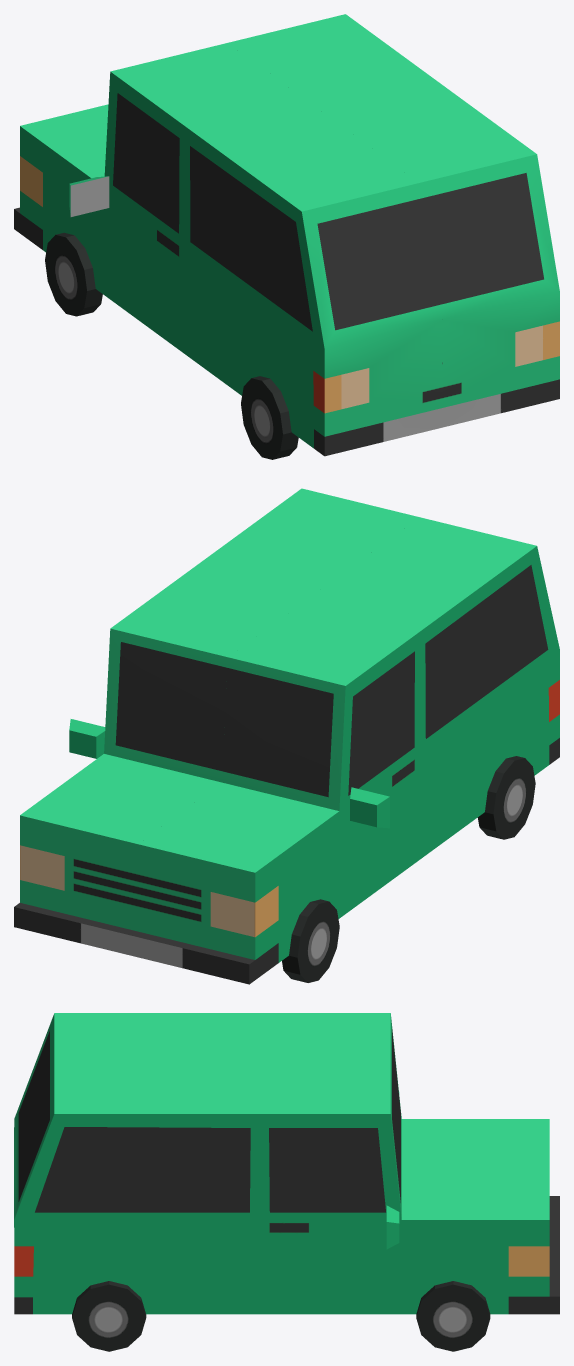
Rendered from car_mesh.fbx.
3 renders of one model, top to bottom at view 1: azimuth 30°, elevation 25°; view 2: azimuth 150°, elevation 25°; view 3: azimuth 270°, elevation 25°, orthographic. The views are drawn at different scales.
Parts seen in each view (by area): view 1: car_mesh; view 2: car_mesh; view 3: car_mesh.
Boxes of the visible parts, <box> form: car_mesh: <box>14,14,559,459</box>; car_mesh: <box>14,488,559,984</box>; car_mesh: <box>14,1013,559,1351</box>.
Size of the model in its own units: 3.16 by 2.52 by 5.32.
